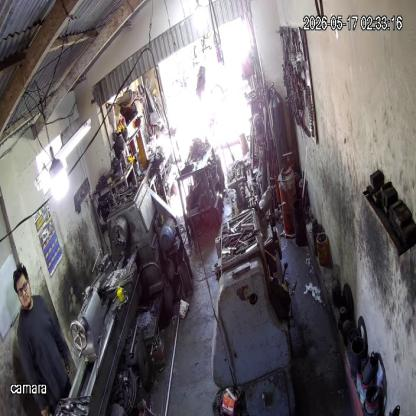lentes: (17, 280, 29, 295)
